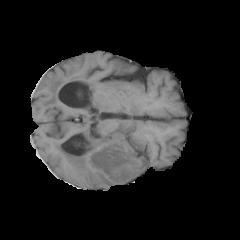glioma: (42, 86, 147, 185)
